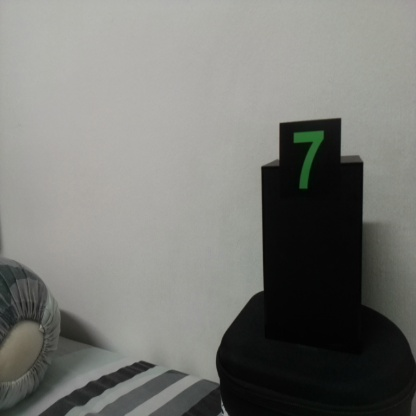id_7: (279, 123, 341, 218)
